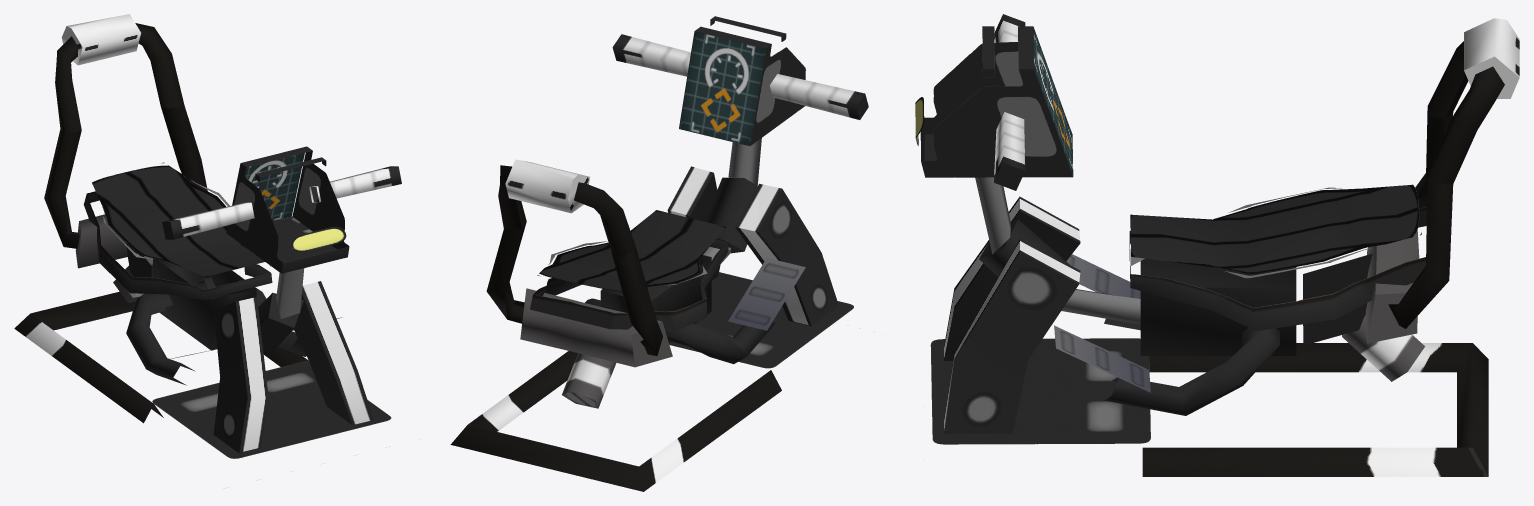
File: obj_interactive_driversaddle_03_lod1.fbx
3 views of the same model, side by side, from view 1: azimuth 30°, elevation 25°; view 2: azimuth 150°, elevation 25°; view 3: azimuth 270°, elevation 25° (orthographic). The views are drawn at different scales.
Parts seen in each view (by area): view 1: polySurface2; view 2: polySurface2; view 3: polySurface2.
Part boxes in pixels (<box>): polySurface2: <box>14,14,401,458</box>; polySurface2: <box>450,16,868,491</box>; polySurface2: <box>915,14,1519,476</box>.
Bounding box in the file's own units: 2.99 × 3.61 × 5.13.
Materials: 1 (1 with a texture image).
